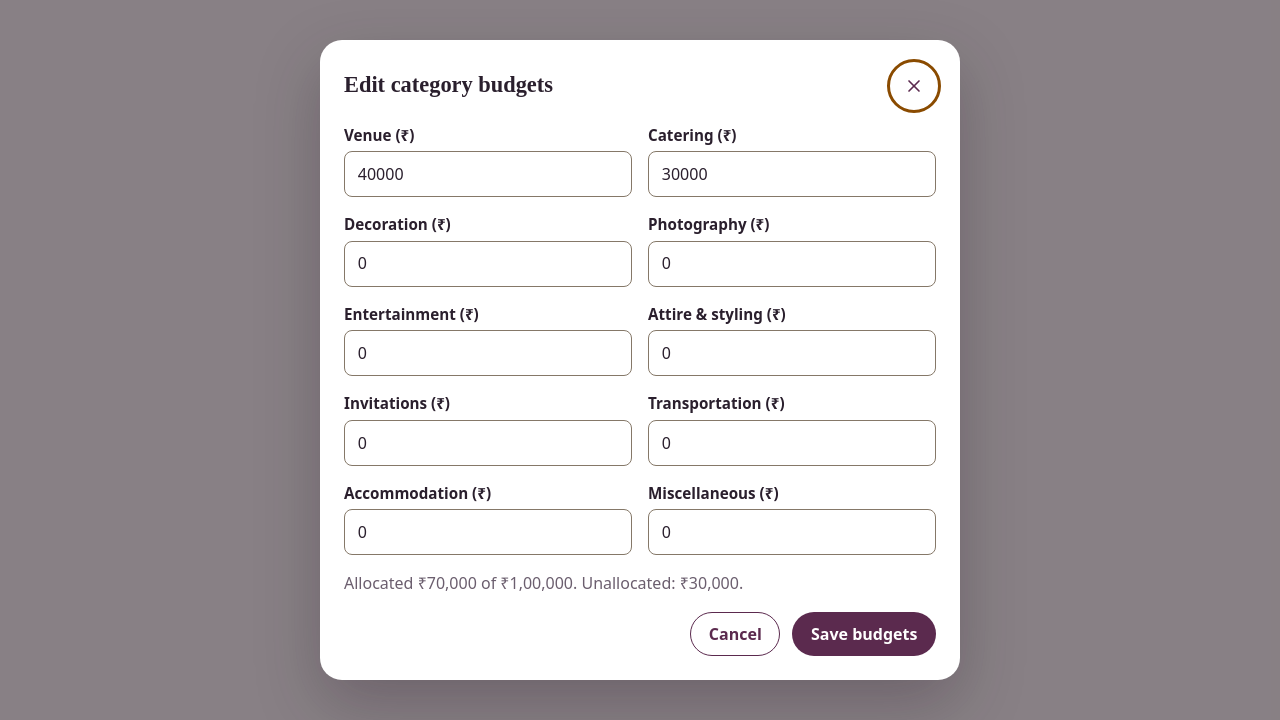
Test case: AllocationDialog › blocks saving when the categories add up to more than the budget
Replace the text in the field labelled "Venue (₹)" with "90000" at [488, 174], box [344, 151, 632, 197]
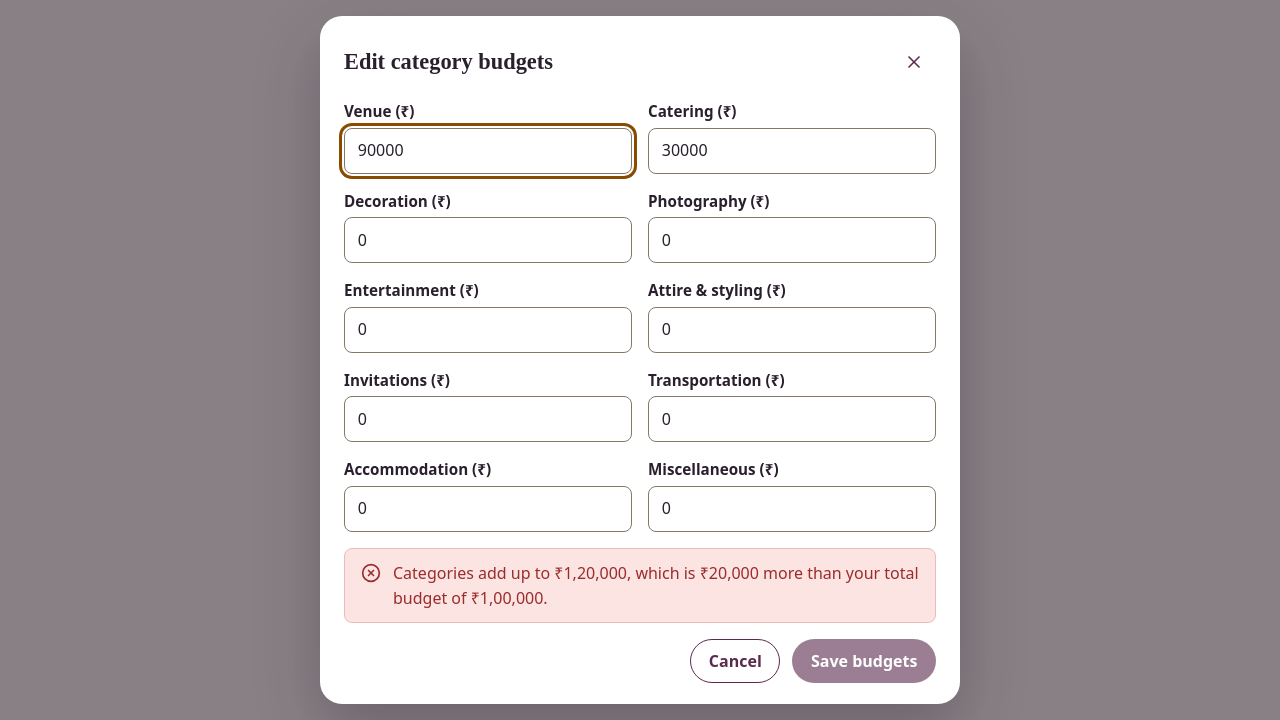
Check: the text "more than your total budget" is shown, box [393, 562, 919, 608]
Check: the button "Save budgets" is disabled, box [792, 639, 936, 683]
